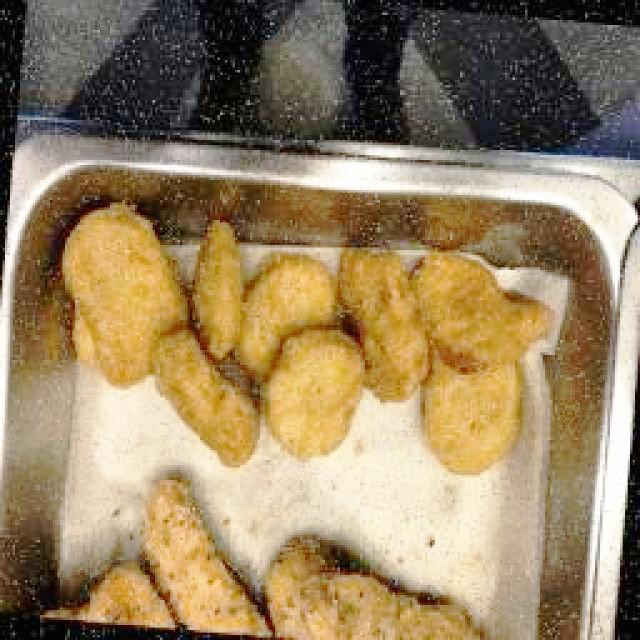chicken_nuggets: (60, 199, 185, 386), (412, 248, 555, 370), (150, 331, 263, 471), (335, 248, 432, 403), (268, 330, 364, 459), (242, 251, 338, 379), (425, 359, 522, 475), (196, 222, 248, 360)
